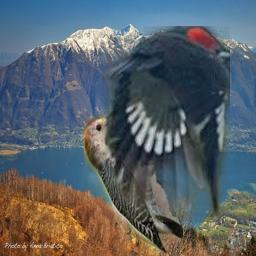Woodpecker: (102, 26, 230, 222), (84, 106, 183, 253)
